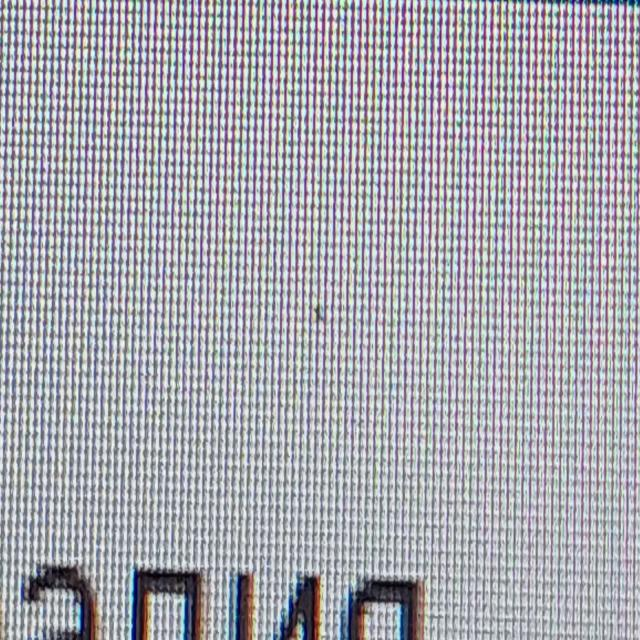Dead pixel: (312, 305, 326, 323)
